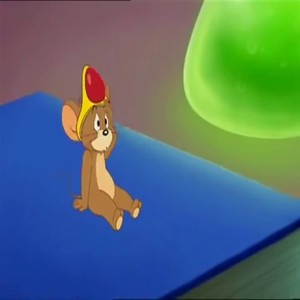Jerry: (46, 63, 150, 232)
